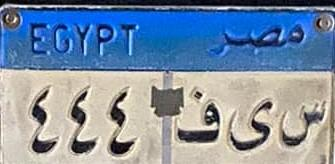4: (104, 85, 140, 157), (63, 85, 99, 157), (28, 83, 60, 157)
faa: (174, 86, 221, 153)
seen: (278, 98, 328, 153)
yaa: (226, 93, 274, 156)
